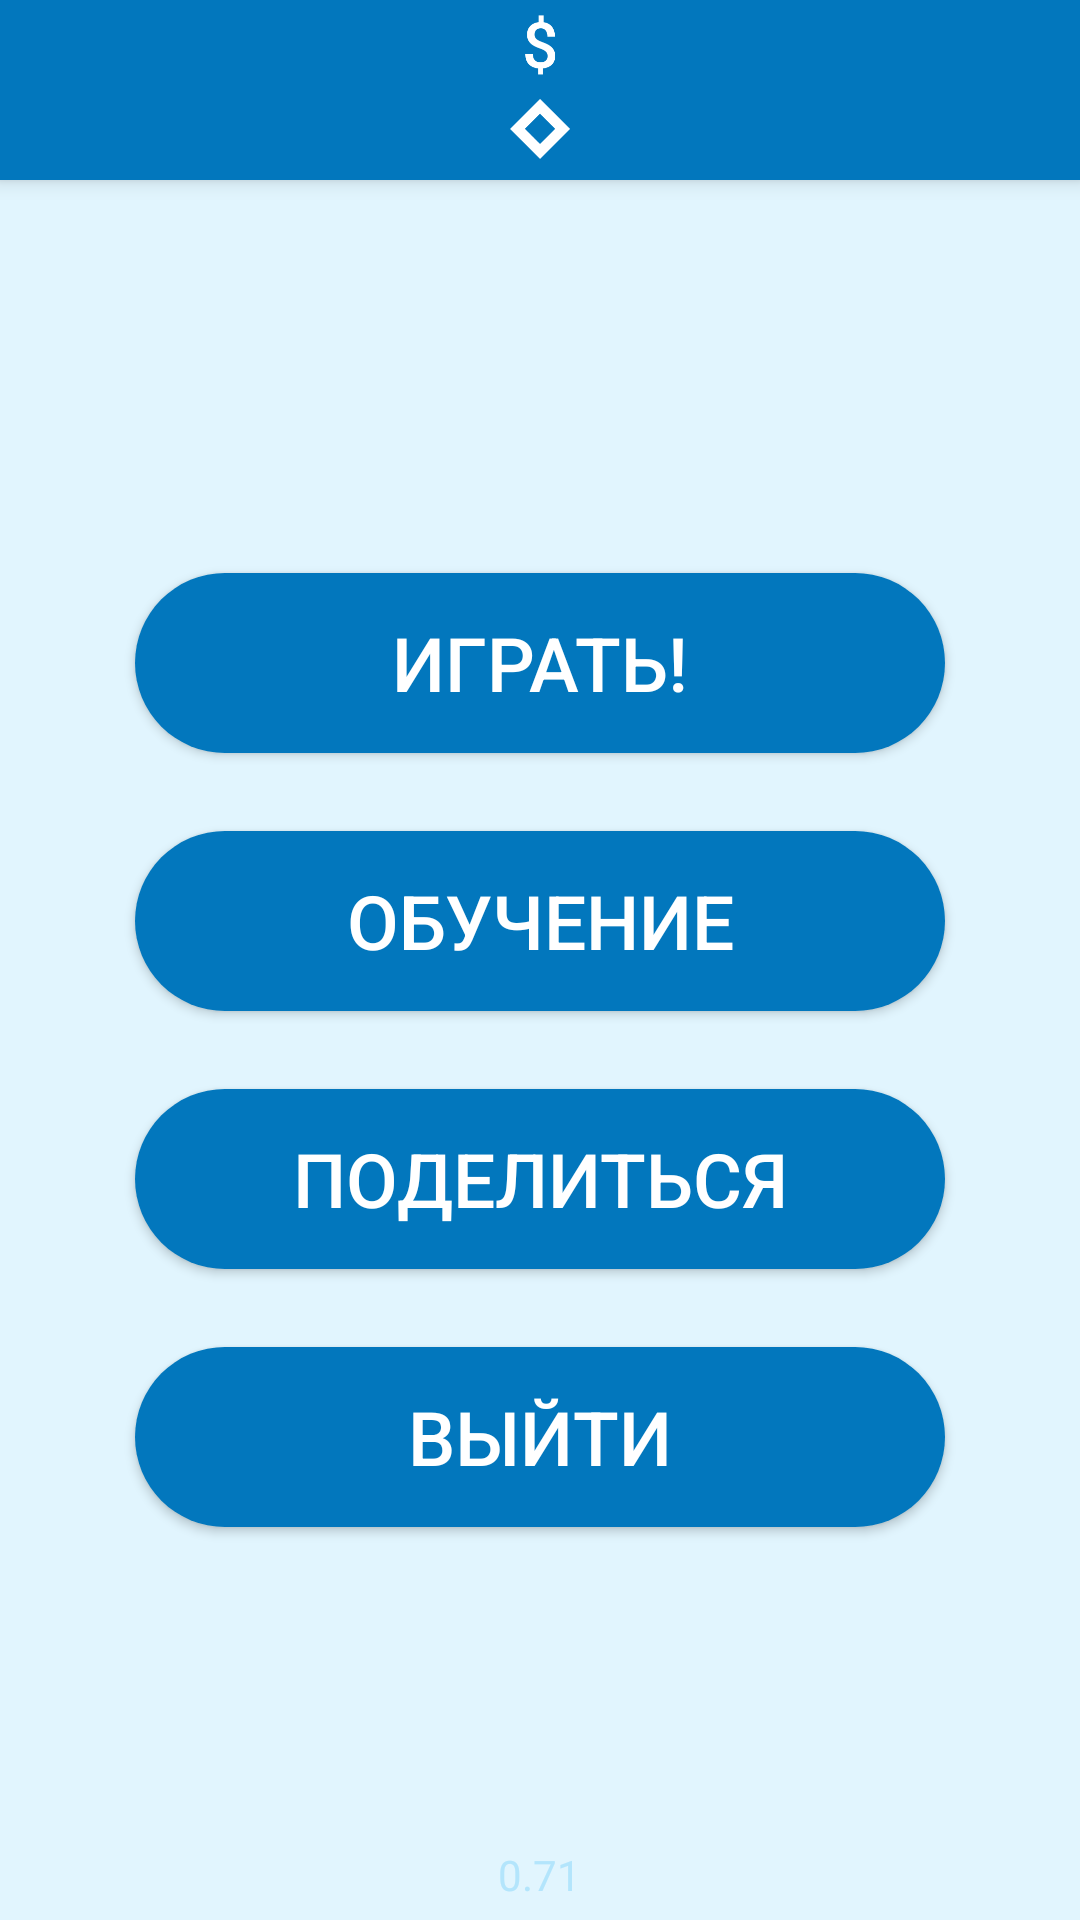

Named icons in this screenshot (1080 × 1920) and their bounding boxes, [x1,y1,x2,y2]:
coins iconv: [525,15,555,75]
lvl iconv: [510,99,570,159]
